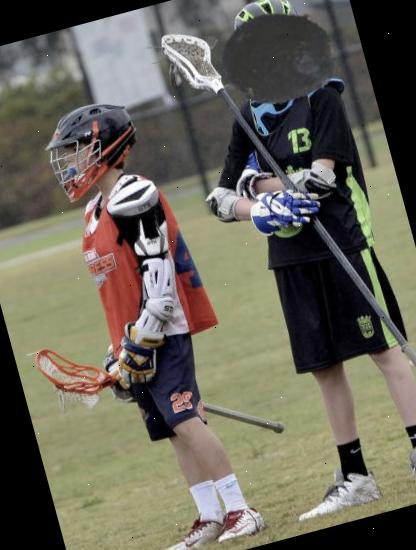Avocado: (213, 0, 348, 126)
